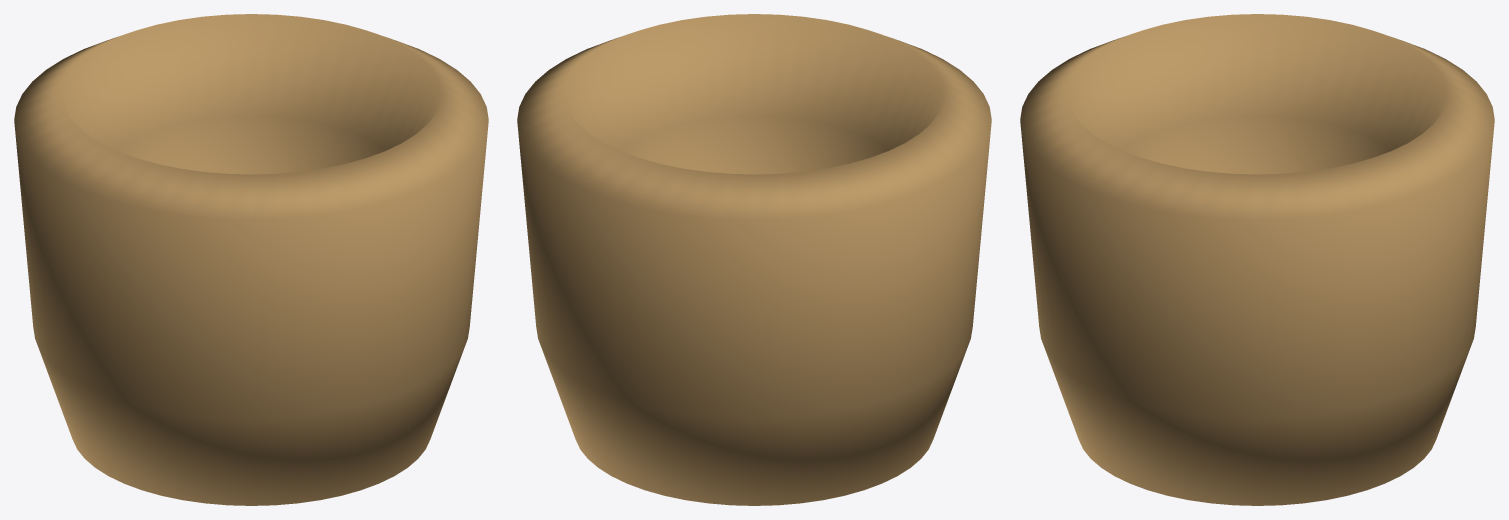
The model's file is mortar-study-ultra.glb.
The picture shows the model from 3 angles, left to right: view 1: azimuth 30°, elevation 25°; view 2: azimuth 150°, elevation 25°; view 3: azimuth 270°, elevation 25°; orthographic projection.
Visible parts, largest first — view 1: mortar-study; view 2: mortar-study; view 3: mortar-study.
Boxes of the visible parts, x1,y1,x2,y2 form: mortar-study: [14, 14, 488, 505]; mortar-study: [517, 14, 991, 505]; mortar-study: [1020, 14, 1494, 505].
Bounding box in the file's own units: 0.5 × 0.39 × 0.5.
